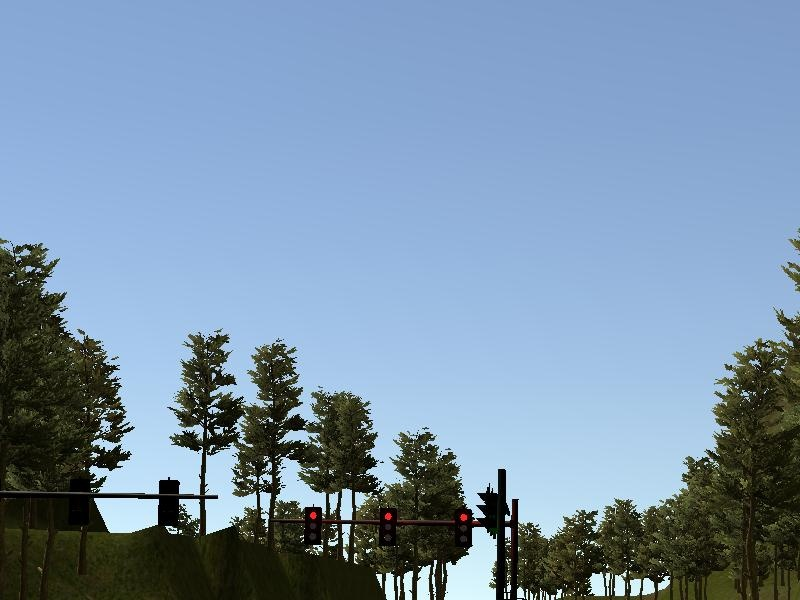Red: (453, 509, 473, 548), (379, 506, 397, 546), (303, 507, 322, 544)
